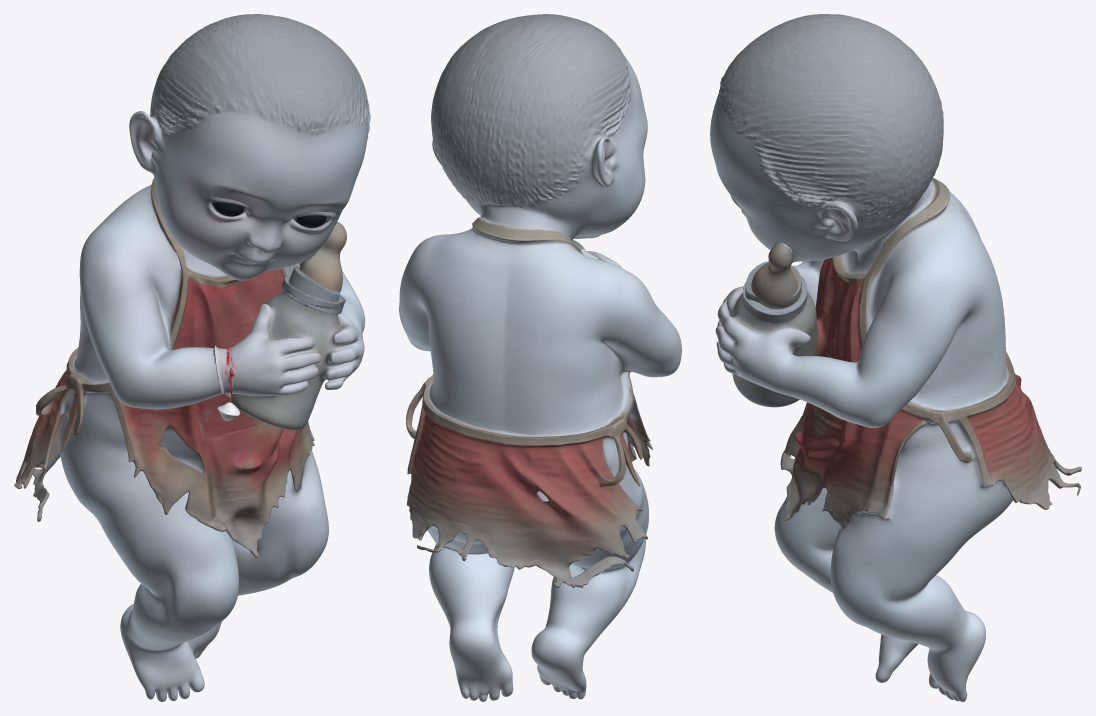
File: vong-nhi-mo-coi.glb
3 renders of one model, left to right at view 1: azimuth 30°, elevation 25°; view 2: azimuth 150°, elevation 25°; view 3: azimuth 270°, elevation 25°, orthographic. The views are drawn at different scales.
Bounding box in the file's own units: 0.4503 × 0.9991 × 0.4962.
Materials: 1 (1 with a texture image).
